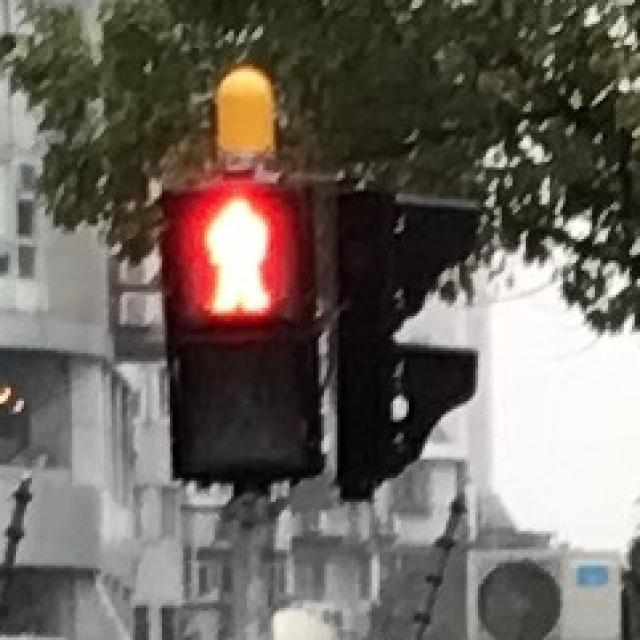red-crossing: (164, 188, 306, 322)
